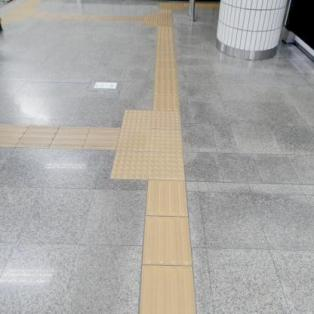Podoctatil: (98, 96, 204, 203), (140, 181, 197, 313), (0, 121, 117, 154), (152, 26, 177, 109), (136, 7, 180, 35), (32, 11, 143, 22)
